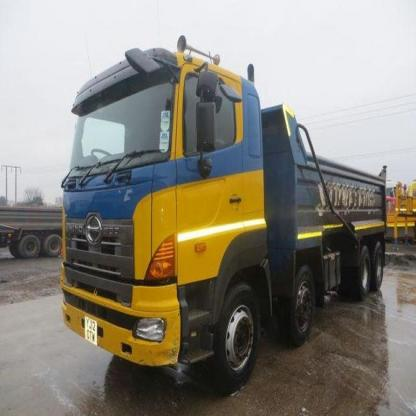dump_truck: (55, 42, 392, 390)
